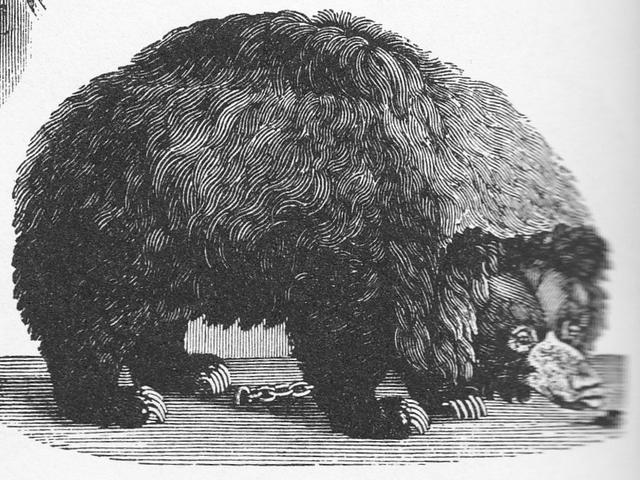Bear: (18, 12, 640, 432)
